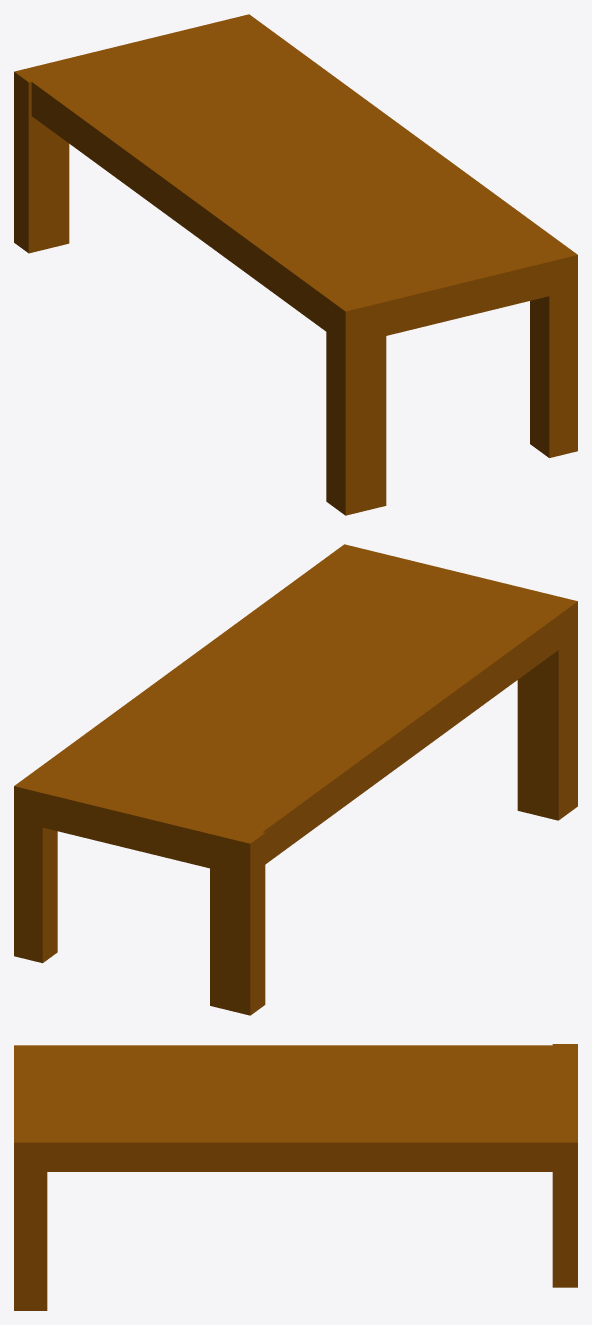
File: chair.fbx
The picture shows the model from 3 angles, top to bottom: view 1: azimuth 30°, elevation 25°; view 2: azimuth 150°, elevation 25°; view 3: azimuth 270°, elevation 25°; orthographic projection. The views are drawn at different scales.
Parts seen in each view (by area): view 1: Cube; view 2: Cube; view 3: Cube.
Part boxes in pixels (x1=…): Cube: x1=14, y1=14, x2=577, y2=515; Cube: x1=14, y1=544, x2=577, y2=1015; Cube: x1=14, y1=1044, x2=577, y2=1310.
Size of the model in its own units: 336 by 813 by 279.
